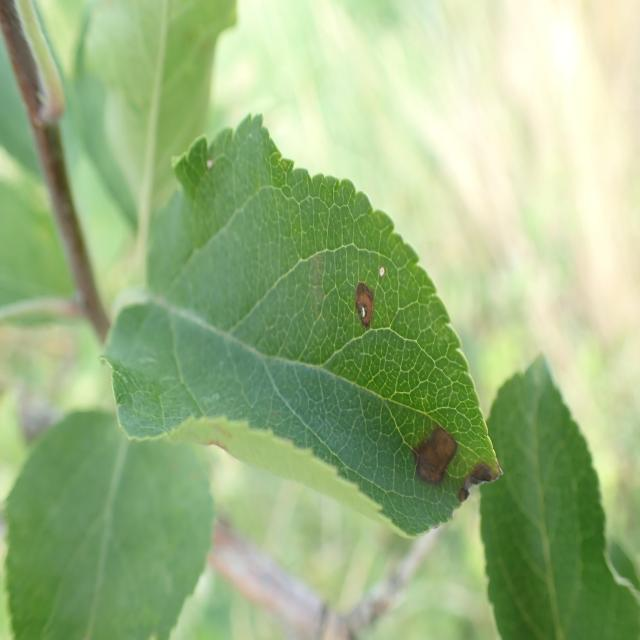Black Rot: (399, 402, 457, 499), (449, 445, 504, 528), (334, 267, 387, 334)
